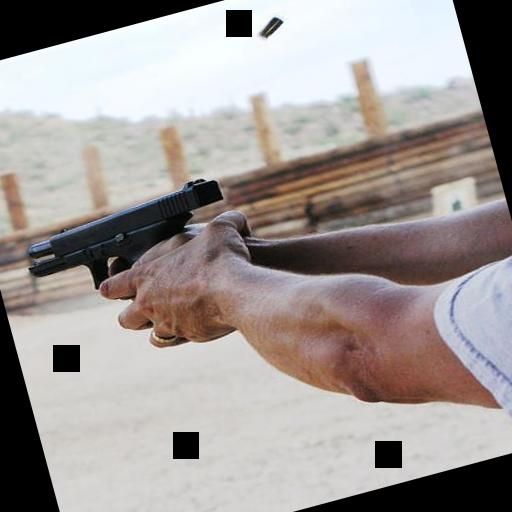Handgun: (13, 170, 234, 304)
